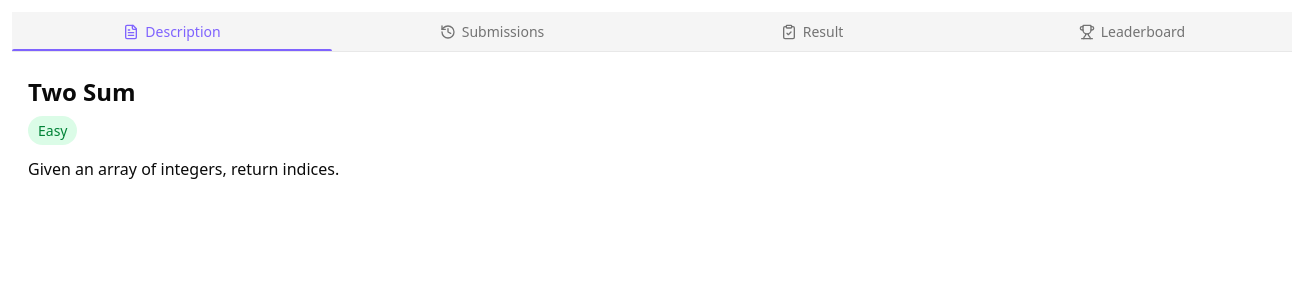
Test: CodeDescArea — submissions tab › renders submission rows when submissions exist
Expected: the element with test id "tabs-list" is shown, [12, 12, 1292, 52]
Click the tab "Submissions" at coordinates (492, 32), box [332, 12, 652, 51]
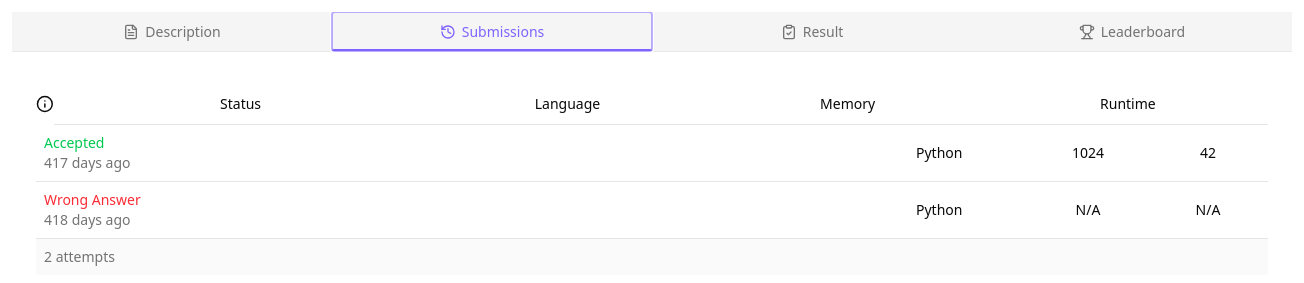
Now the row with test id "submission-1" is shown, box [36, 124, 1268, 181]
Now the row with test id "submission-2" is shown, box [36, 181, 1268, 238]
